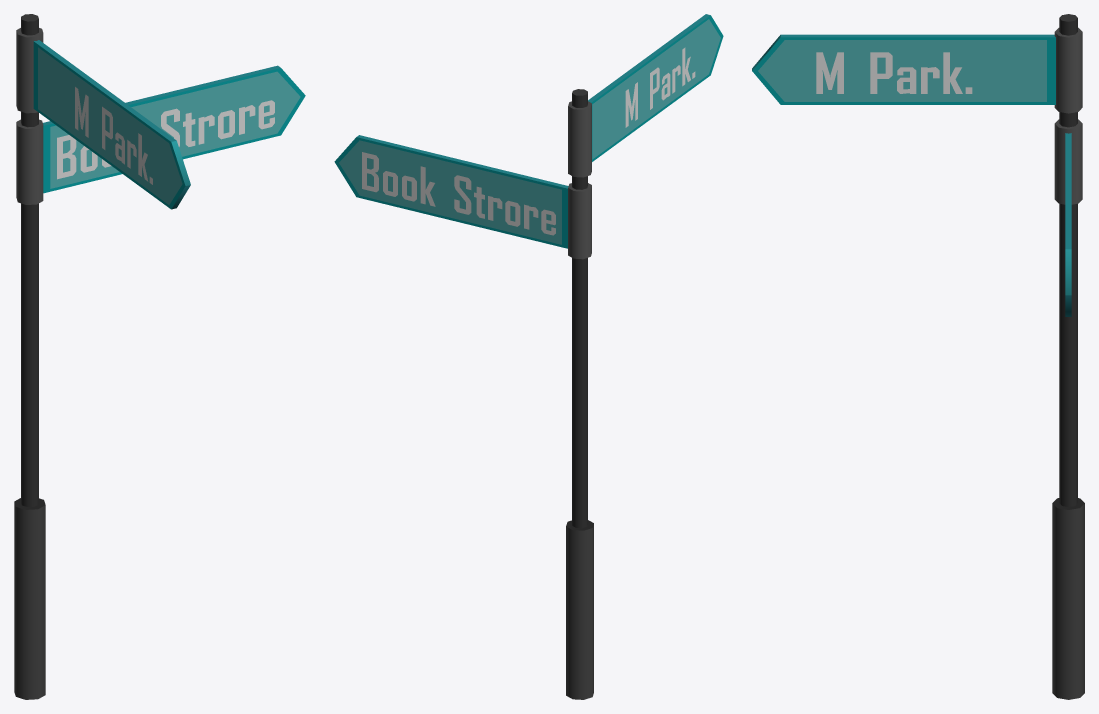
Rendered from street_sign01.FBX.
The picture shows the model from 3 angles, left to right: view 1: azimuth 30°, elevation 25°; view 2: azimuth 150°, elevation 25°; view 3: azimuth 270°, elevation 25°; orthographic projection. The views are drawn at different scales.
Visible parts, largest first — view 1: street_sign01; view 2: street_sign01; view 3: street_sign01.
Part boxes in pixels (bbox=[...]): street_sign01: bbox=[14, 14, 305, 699]; street_sign01: bbox=[334, 14, 723, 699]; street_sign01: bbox=[752, 14, 1084, 699].
Bounding box in the file's own units: 71.48 × 160 × 71.48.
